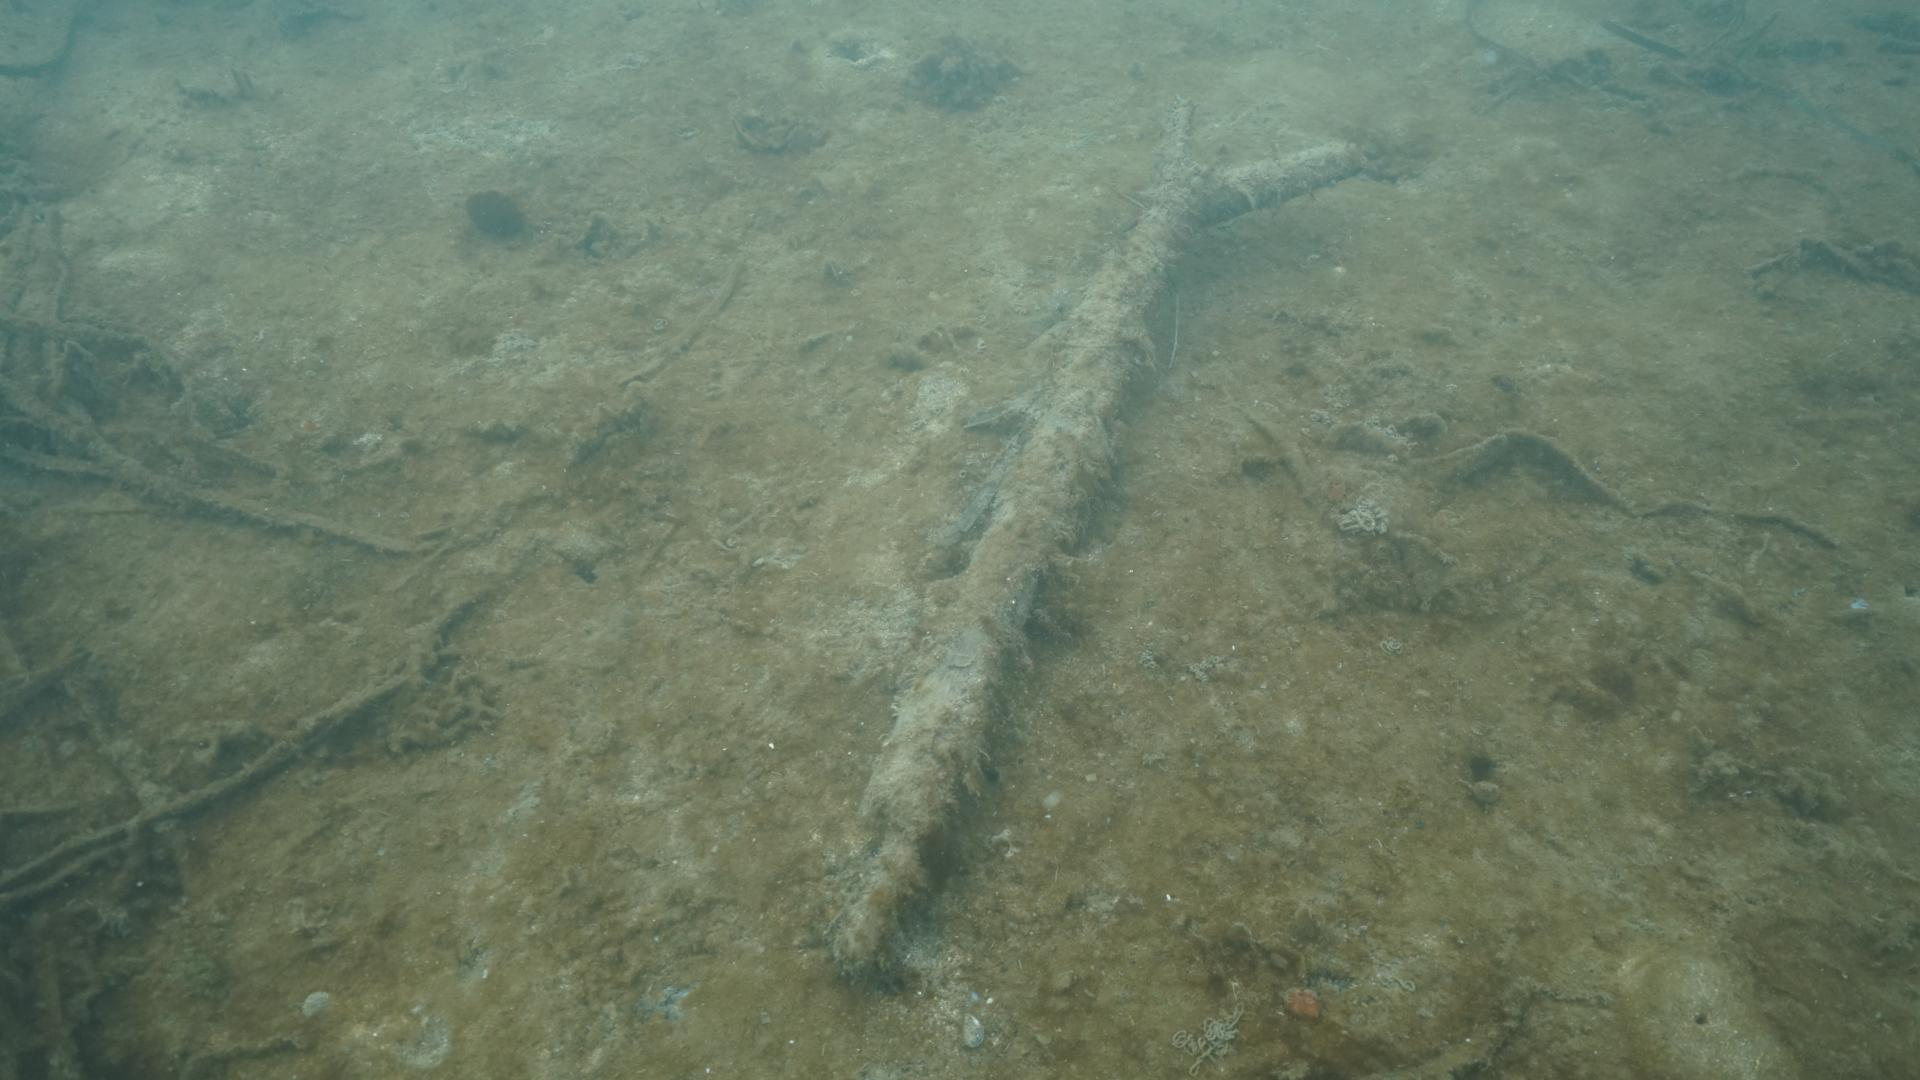wood: (822, 88, 1360, 976)
